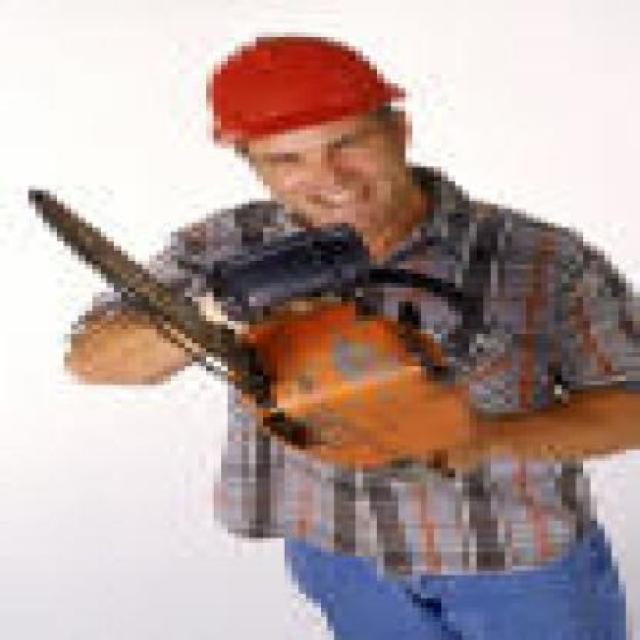Chainsaw: (14, 180, 526, 478)
